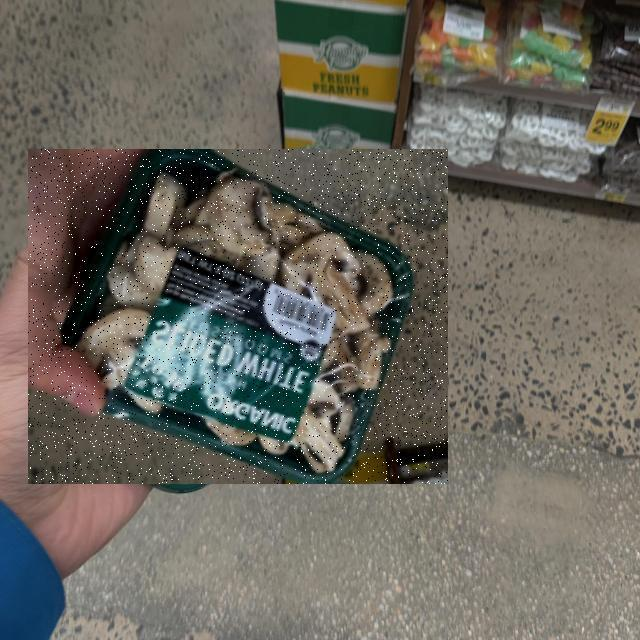Mushroom: (29, 149, 449, 484)
